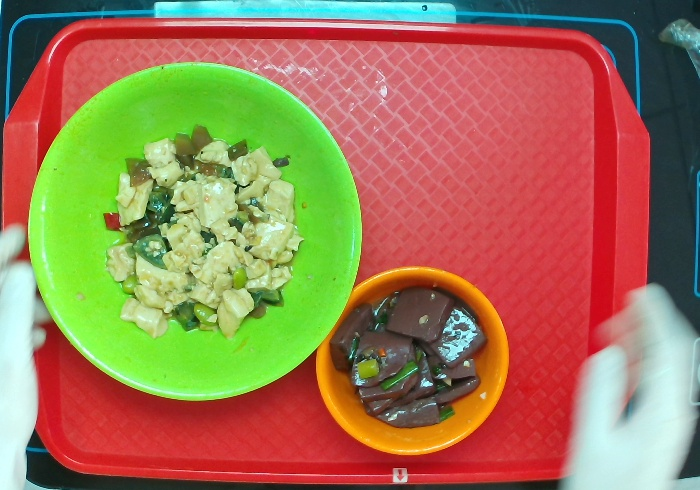YKMZ-Ju_Se_Yuan_Wan: (314, 266, 514, 460)
YKMZ-Lv_Se_Tang_Wan: (25, 60, 363, 403)
